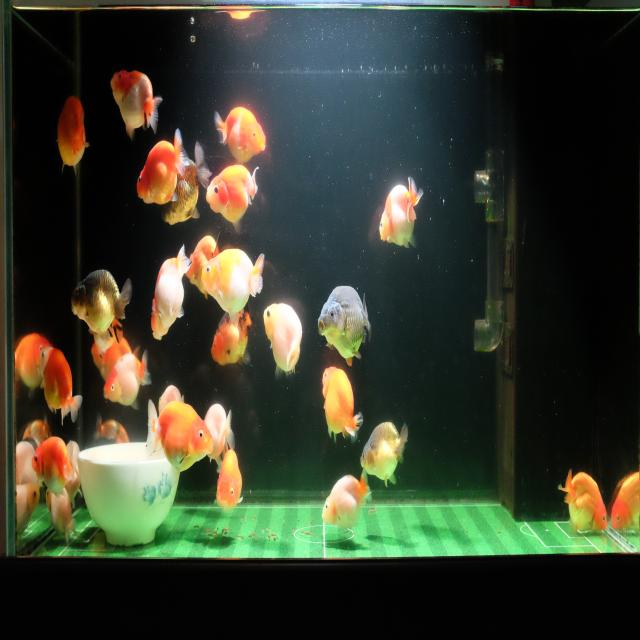Tilapia: (142, 391, 212, 472), (200, 247, 265, 328), (134, 125, 192, 208), (69, 267, 134, 338), (317, 284, 372, 367), (161, 140, 211, 229), (108, 64, 164, 142), (149, 244, 190, 346), (556, 463, 608, 540), (37, 342, 83, 428), (205, 165, 259, 235), (359, 416, 410, 489), (320, 361, 363, 447), (378, 174, 424, 254), (213, 101, 267, 168), (101, 345, 152, 414), (209, 300, 259, 369), (262, 300, 304, 380), (54, 90, 92, 178), (321, 468, 372, 530), (31, 433, 75, 501), (12, 330, 54, 397), (184, 232, 221, 304), (89, 338, 142, 387), (210, 445, 243, 518), (43, 485, 80, 546), (609, 469, 640, 538), (205, 400, 234, 466), (157, 379, 186, 424), (16, 484, 40, 536), (94, 419, 134, 445)
